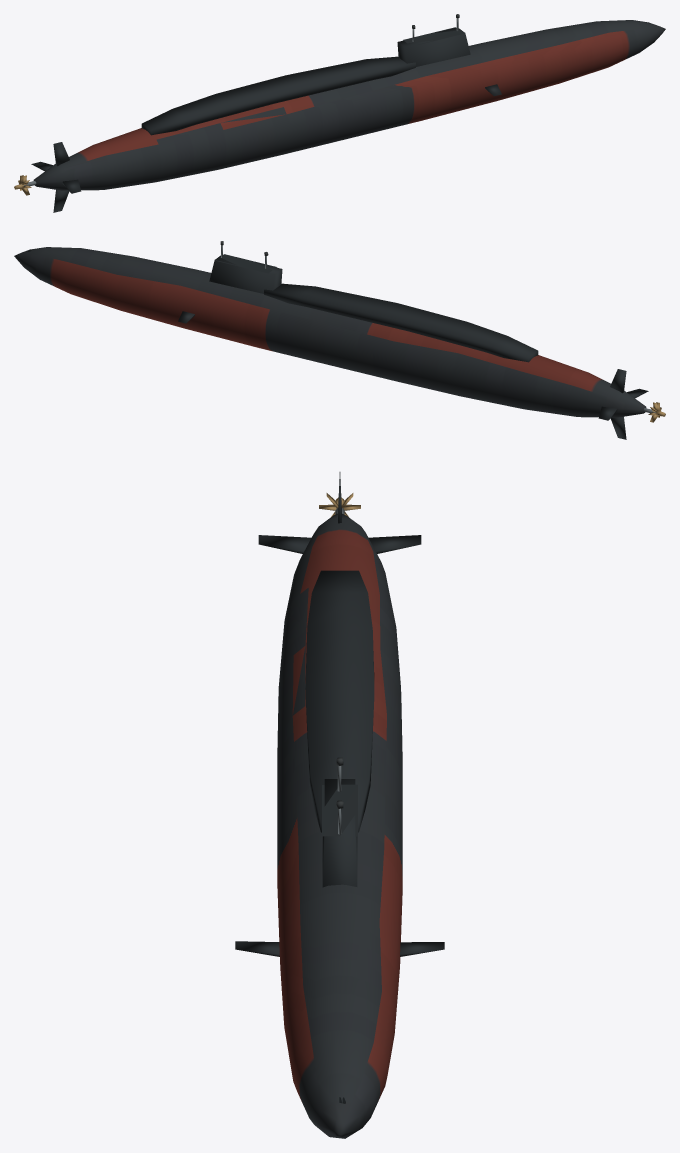
Rendered from US_SSBN_GeorgeWashington_LOD3.fbx.
3 renders of one model, top to bottom at view 1: azimuth 30°, elevation 25°; view 2: azimuth 150°, elevation 25°; view 3: azimuth 270°, elevation 25°, orthographic. The views are drawn at different scales.
Parts seen in each view (by area): view 1: US_SSBN_GeorgeWashington_LOD3; view 2: US_SSBN_GeorgeWashington_LOD3; view 3: US_SSBN_GeorgeWashington_LOD3.
Part boxes in pixels (x1,y1,x2,y2): US_SSBN_GeorgeWashington_LOD3: [14, 14, 665, 212]; US_SSBN_GeorgeWashington_LOD3: [14, 241, 665, 439]; US_SSBN_GeorgeWashington_LOD3: [235, 472, 444, 1138].
Bounding box in the file's own units: 120 × 16.72 × 17.53.
Materials: 6 (1 with a texture image).
